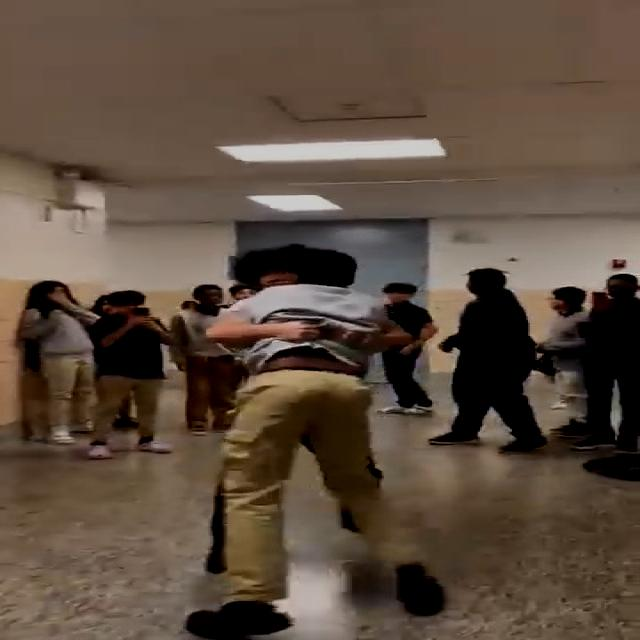fight: (178, 246, 442, 640)
